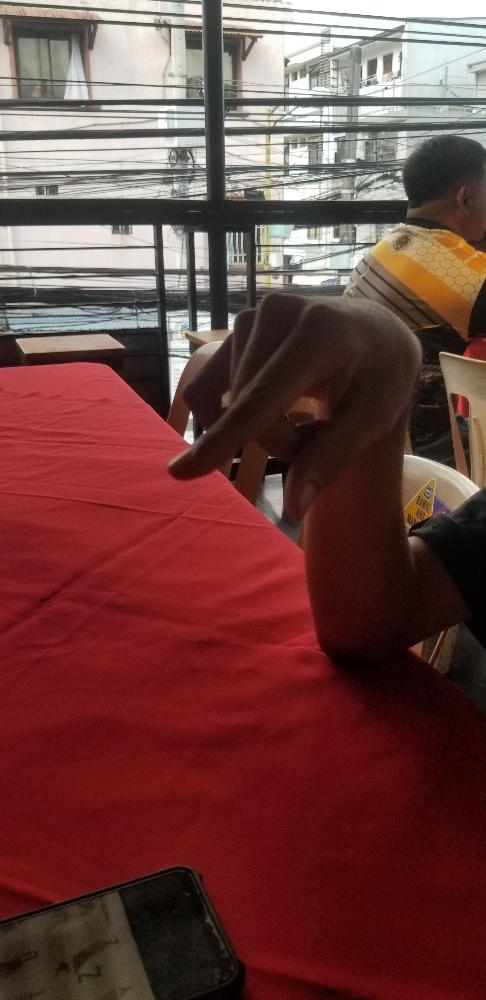z: (164, 288, 423, 525)
